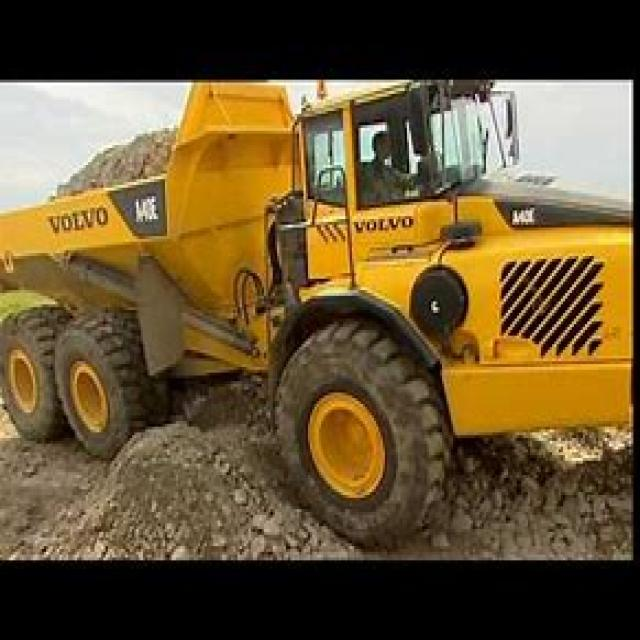dump_truck: (9, 82, 638, 538)
